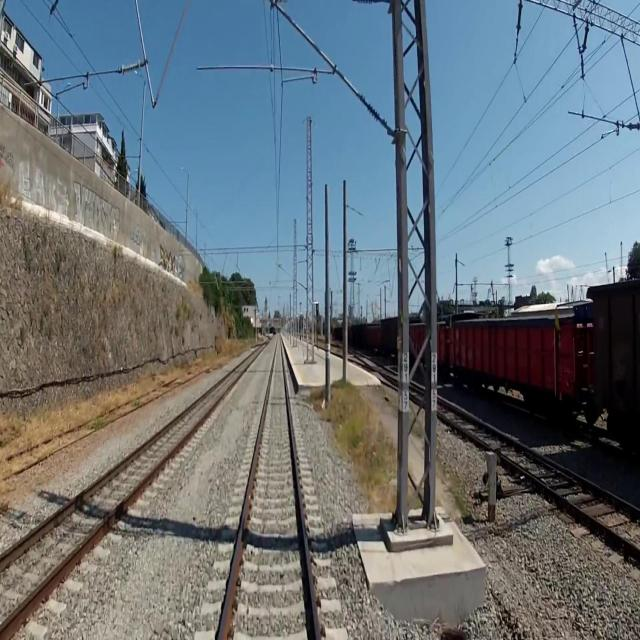rail-track: (0, 356, 253, 617), (225, 341, 312, 639)
